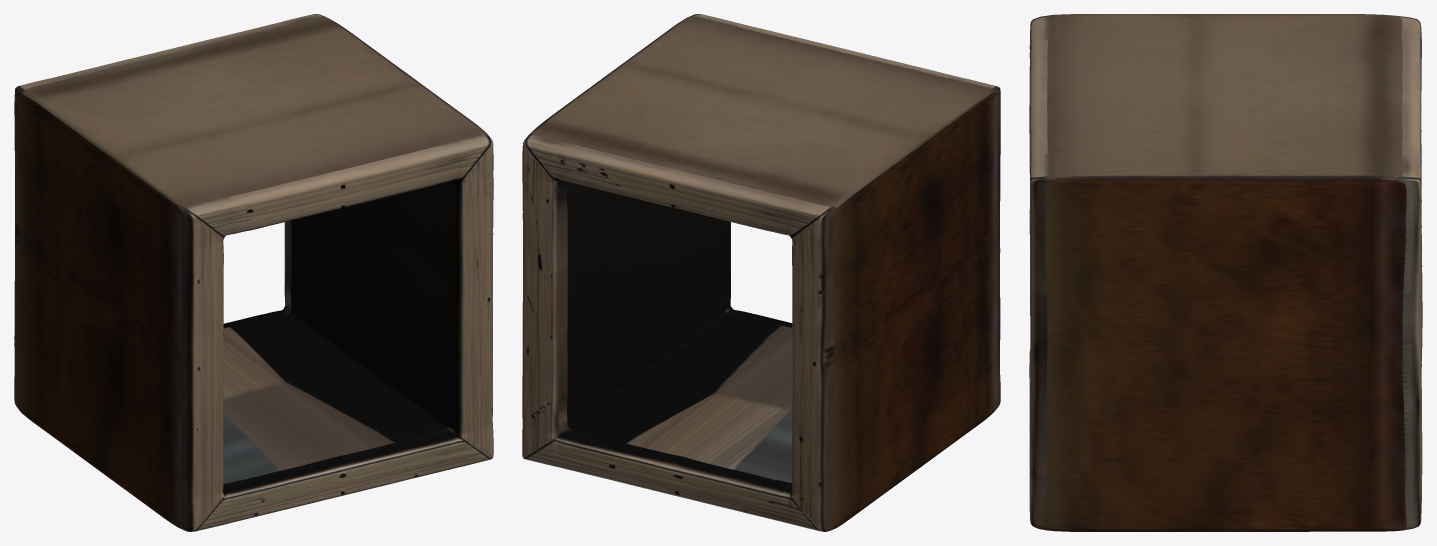
Rendered from window-timber-frame.glb.
3 views of the same model, side by side, from view 1: azimuth 30°, elevation 25°; view 2: azimuth 150°, elevation 25°; view 3: azimuth 270°, elevation 25° (orthographic). The views are drawn at different scales.
Parts seen in each view (by area): view 1: tmp0clhvo5b.ply; view 2: tmp0clhvo5b.ply; view 3: tmp0clhvo5b.ply.
Boxes of the visible parts, x1=… form: tmp0clhvo5b.ply: x1=14, y1=14, x2=493, y2=531; tmp0clhvo5b.ply: x1=522, y1=14, x2=1000, y2=531; tmp0clhvo5b.ply: x1=1029, y1=14, x2=1422, y2=531.
Size of the model in its own units: 1 by 1 by 1.
Materials: 1 (1 with a texture image).
